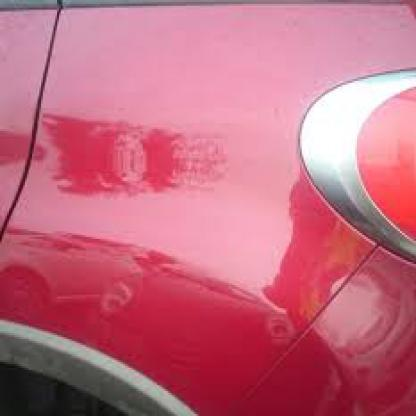dent: (307, 262, 410, 386)
